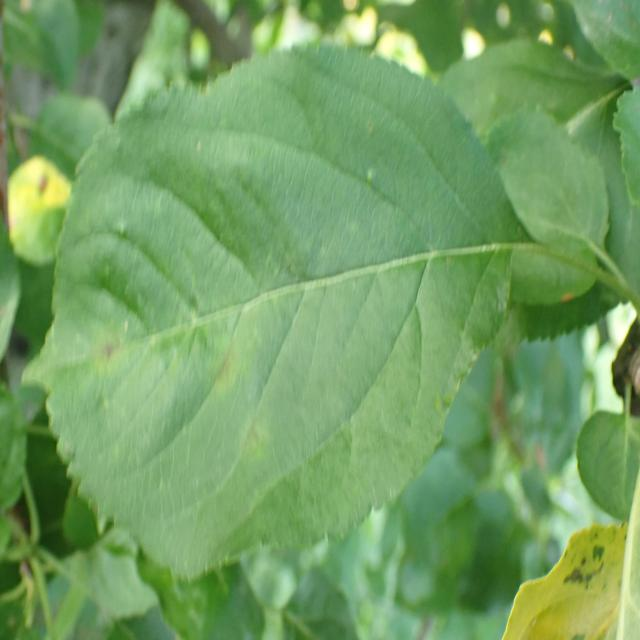scab: (54, 256, 482, 520)
